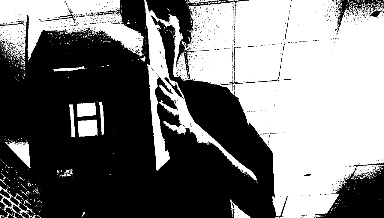H: (64, 101, 105, 135)
